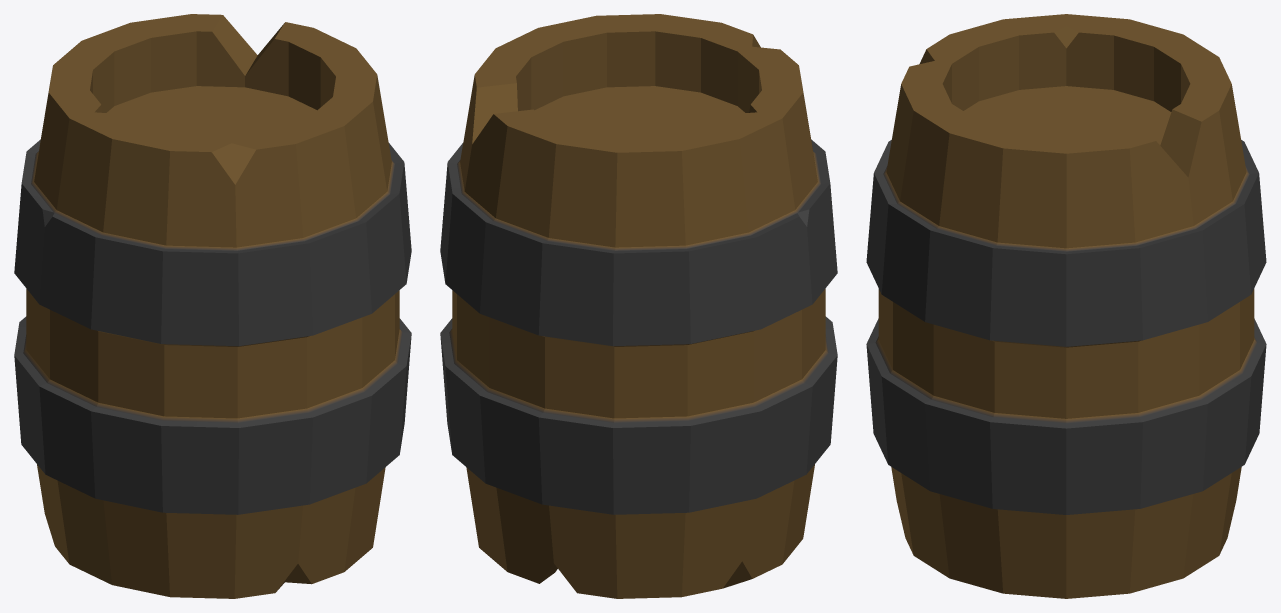
Rendered from Barrel.fbx.
3 renders of one model, left to right at view 1: azimuth 30°, elevation 25°; view 2: azimuth 150°, elevation 25°; view 3: azimuth 270°, elevation 25°, orthographic.
Visible parts, largest first — view 1: Barrel; view 2: Barrel; view 3: Barrel.
Part boxes in pixels (bbox=[...]): Barrel: bbox=[14, 14, 411, 598]; Barrel: bbox=[440, 14, 837, 598]; Barrel: bbox=[866, 14, 1266, 598].
Bounding box in the file's own units: 0.484 × 0.5943 × 0.484.
